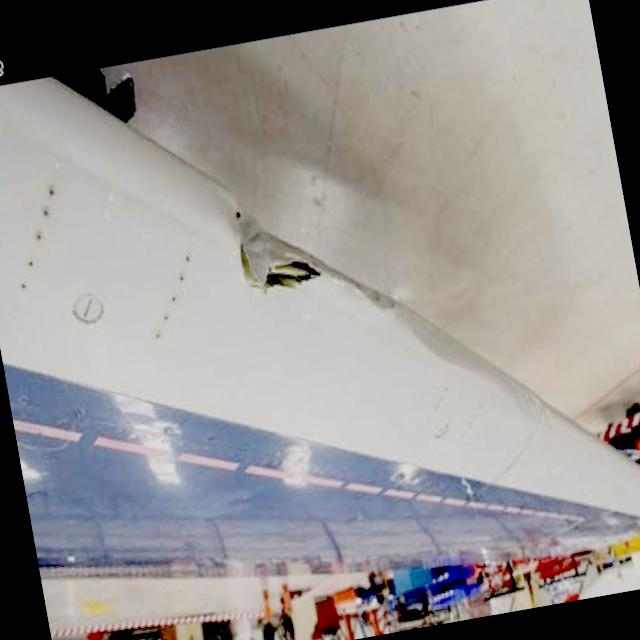crack: (225, 188, 328, 307)
dent: (392, 284, 498, 392)
